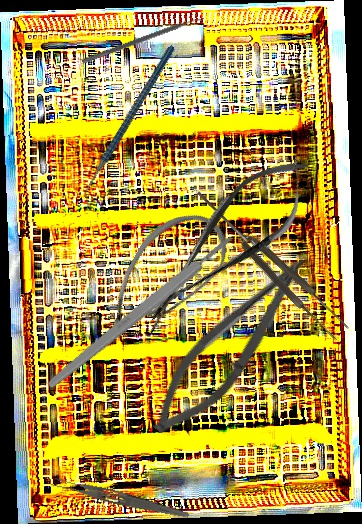Cannula: (95, 195, 239, 366)
Chopper: (41, 44, 218, 209)
Dressing Forceps: (50, 474, 191, 521)
Micro Scissor: (124, 140, 330, 340), (138, 237, 319, 451)
Scalpel Handle: (44, 232, 237, 392)
Spatula Surgical: (81, 13, 205, 70)
Tissue Forceps: (189, 181, 351, 344)
